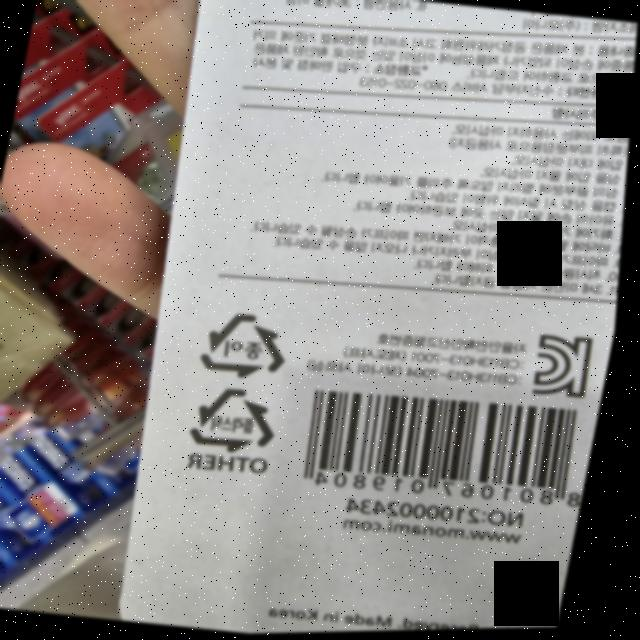Paper: (202, 305, 301, 387)
Plastic: (192, 381, 292, 461)
